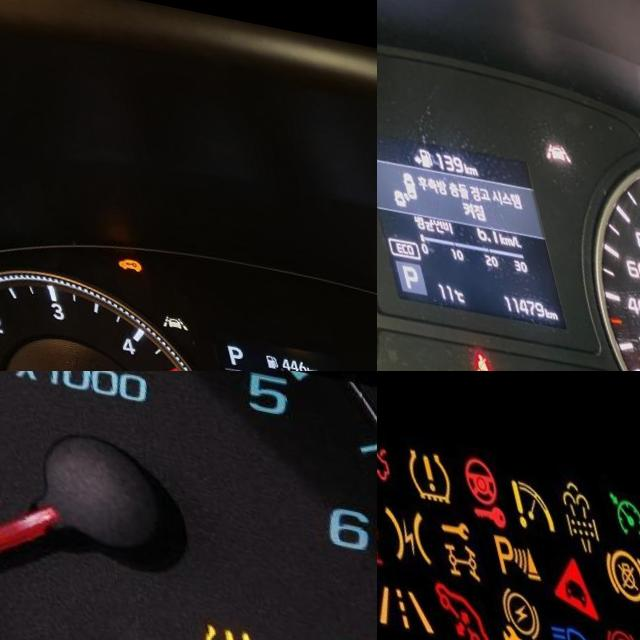Central Warning lamp: (366, 286, 377, 303)
LaneCenteringOff: (530, 121, 560, 145), (143, 305, 171, 322)
